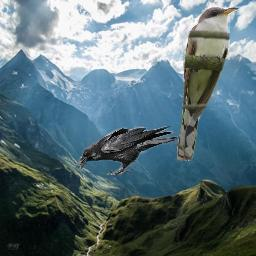Crow: (78, 126, 178, 175)
Cuckoo: (177, 6, 240, 161)
